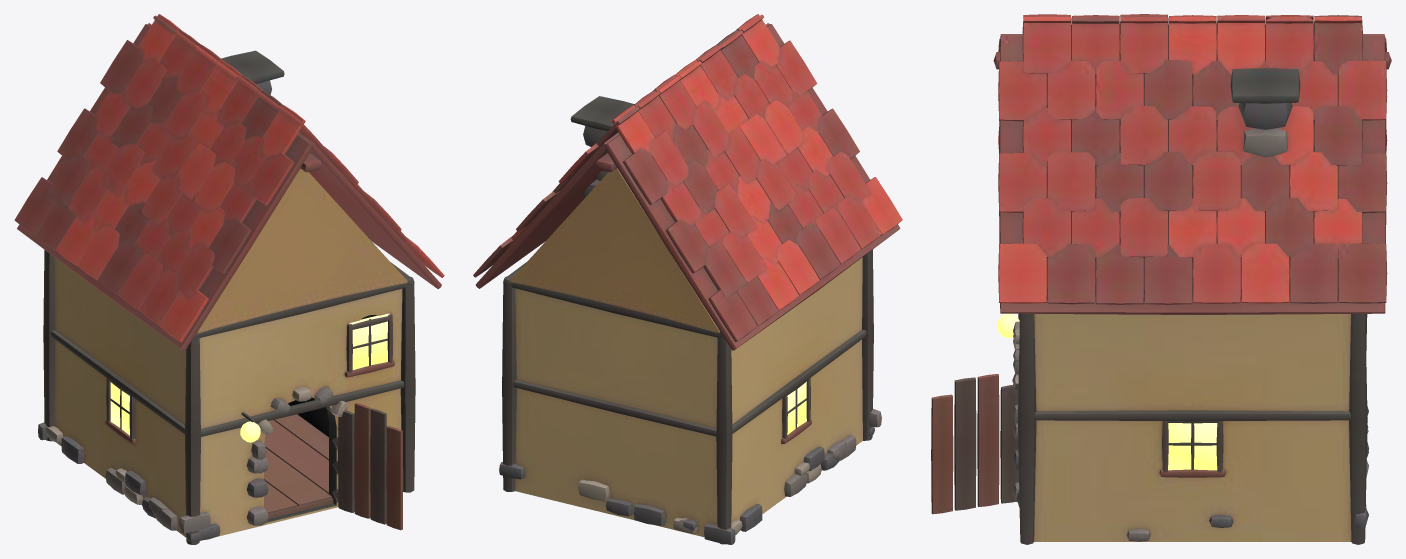
Rendered from house_a.glb.
3 views of the same model, side by side, from view 1: azimuth 30°, elevation 25°; view 2: azimuth 150°, elevation 25°; view 3: azimuth 270°, elevation 25° (orthographic). The views are drawn at different scales.
Visible parts, largest first — view 1: main, glow; view 2: main, glow; view 3: main, glow.
Part boxes in pixels (x1,y1,x2,y2): main: (14,14,444,544); glow: (110,313,389,442); main: (473,14,902,544); glow: (787,381,806,434); main: (931,14,1391,544); glow: (997,313,1217,470).
Size of the model in its own units: 6.93 by 9.98 by 8.91.
Materials: 2 (1 with a texture image).
